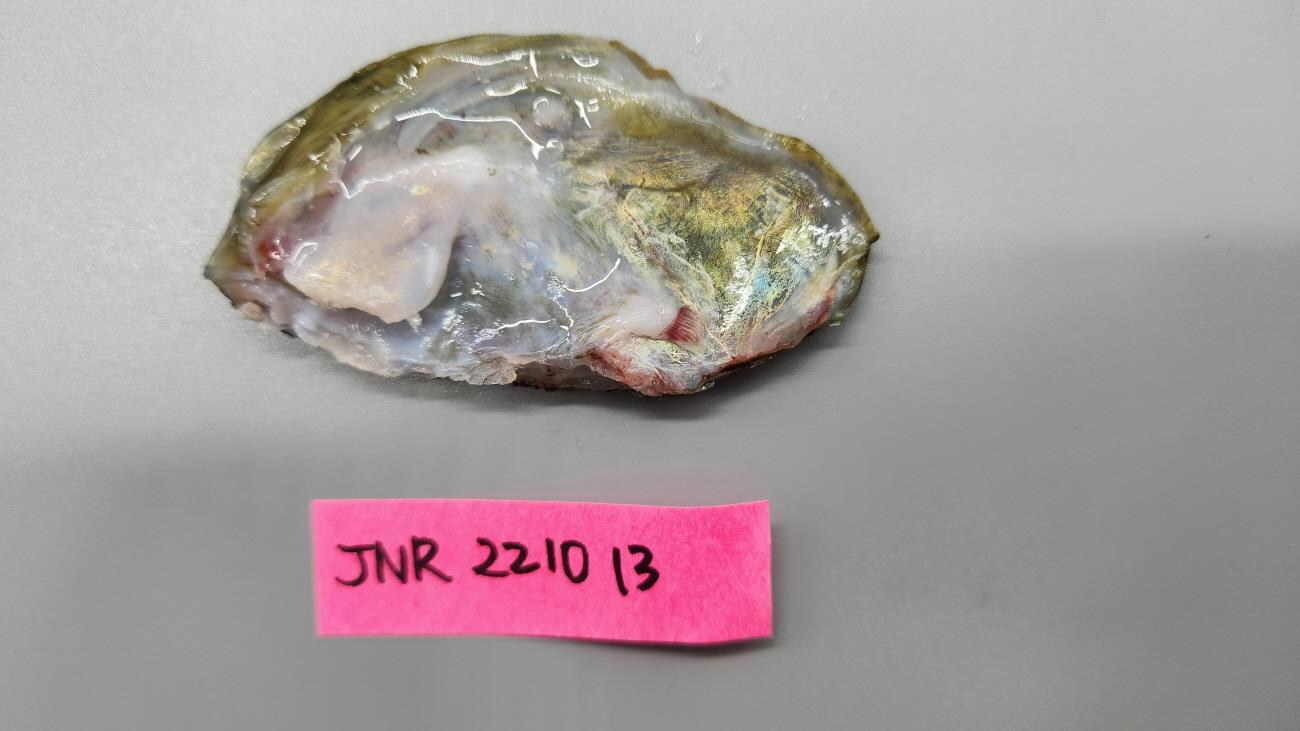POGCN: (202, 33, 878, 393)
